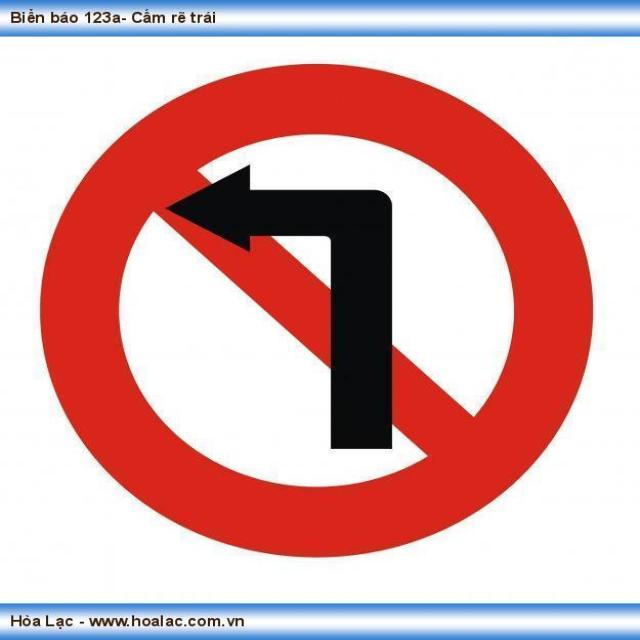Bien bao cam re trai: (19, 55, 636, 577)
